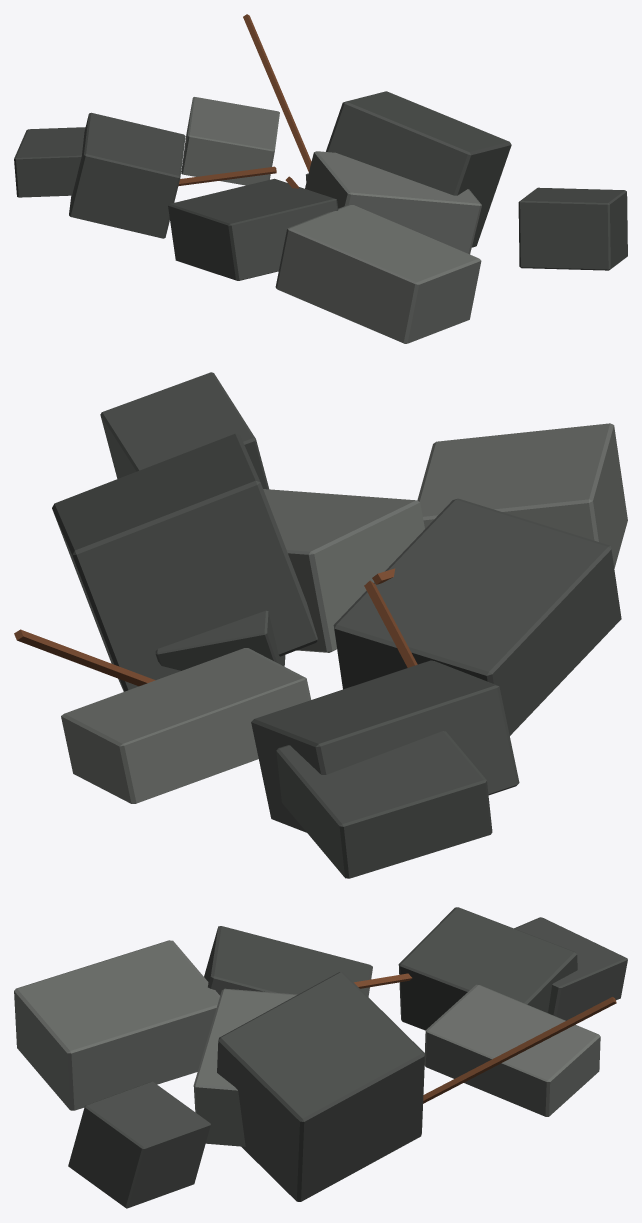
Rendered from Rubble_Pile.fbx.
3 renders of one model, top to bottom at view 1: azimuth 30°, elevation 25°; view 2: azimuth 150°, elevation 25°; view 3: azimuth 270°, elevation 25°, orthographic. The views are drawn at different scales.
Visible parts, largest first — view 1: Rubble_Pile; view 2: Rubble_Pile; view 3: Rubble_Pile.
Boxes of the visible parts, x1=… form: Rubble_Pile: x1=14, y1=14, x2=627, y2=343; Rubble_Pile: x1=14, y1=372, x2=627, y2=878; Rubble_Pile: x1=14, y1=907, x2=627, y2=1208.
Size of the model in its own units: 2 by 0.7029 by 2.27.
